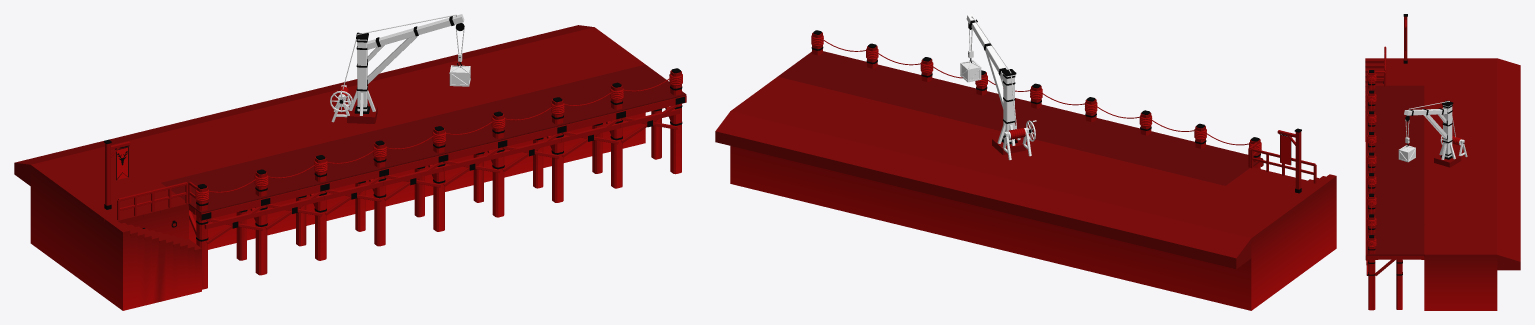
Rendered from SilverbrookRiversideDocks.fbx.
3 renders of one model, left to right at view 1: azimuth 30°, elevation 25°; view 2: azimuth 150°, elevation 25°; view 3: azimuth 270°, elevation 25°, orthographic. The views are drawn at different scales.
Visible parts, largest first — view 1: SM_SBRiversideDocks_Deck, SM_SBRiversideDocks_Timber, SM_SBRiversideDocks_Masonry, SM_SBRiversideDocks_Details, SM_SBRiversideDocks_Crane; view 2: SM_SBRiversideDocks_Deck, SM_SBRiversideDocks_Masonry, SM_SBRiversideDocks_Details, SM_SBRiversideDocks_Crane, SM_SBRiversideDocks_Timber; view 3: SM_SBRiversideDocks_Deck, SM_SBRiversideDocks_Masonry, SM_SBRiversideDocks_Timber, SM_SBRiversideDocks_Details, SM_SBRiversideDocks_Crane.
Boxes of the visible parts, <box> form: SM_SBRiversideDocks_Deck: <box>14,25,686,251</box>; SM_SBRiversideDocks_Timber: <box>105,70,686,289</box>; SM_SBRiversideDocks_Masonry: <box>30,104,645,310</box>; SM_SBRiversideDocks_Details: <box>104,16,684,241</box>; SM_SBRiversideDocks_Crane: <box>330,14,470,122</box>; SM_SBRiversideDocks_Deck: <box>715,51,1336,269</box>; SM_SBRiversideDocks_Masonry: <box>730,137,1336,310</box>; SM_SBRiversideDocks_Details: <box>811,19,1301,193</box>; SM_SBRiversideDocks_Crane: <box>960,14,1036,160</box>; SM_SBRiversideDocks_Timber: <box>812,32,1316,189</box>; SM_SBRiversideDocks_Deck: <box>1365,58,1520,270</box>; SM_SBRiversideDocks_Masonry: <box>1365,63,1497,310</box>; SM_SBRiversideDocks_Timber: <box>1365,16,1424,310</box>; SM_SBRiversideDocks_Details: <box>1366,14,1464,275</box>; SM_SBRiversideDocks_Crane: <box>1398,101,1467,162</box>.
Bounding box in the file's own units: 3000 × 942 × 1000.
